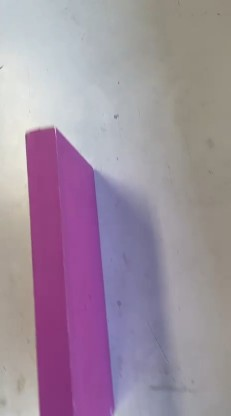pink: (0, 94, 123, 416)
